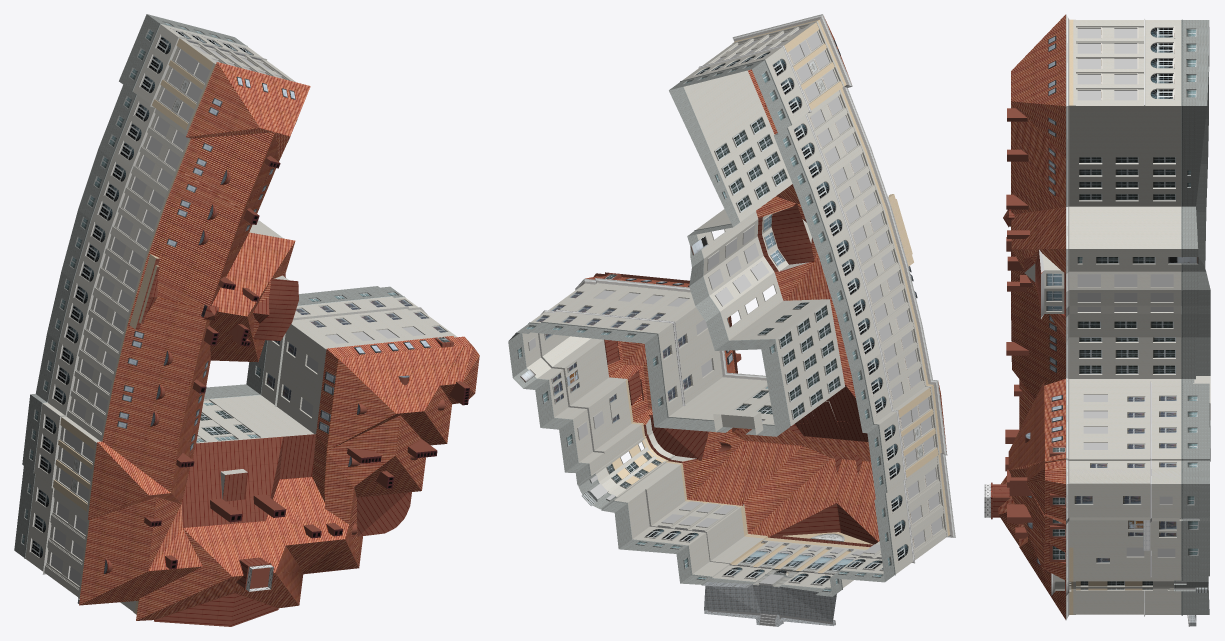
The model's file is Estonia_pst_10.obj.
3 renders of one model, left to right at view 1: azimuth 30°, elevation 25°; view 2: azimuth 150°, elevation 25°; view 3: azimuth 270°, elevation 25°, orthographic. The views are drawn at different scales.
Visible parts, largest first — view 1: Estonia_pst_10; view 2: Estonia_pst_10; view 3: Estonia_pst_10.
Part boxes in pixels (x1,y1,x2,y2): Estonia_pst_10: [14, 14, 479, 626]; Estonia_pst_10: [508, 14, 955, 626]; Estonia_pst_10: [984, 14, 1210, 626].
Bounding box in the file's own units: 53.61 × 76.37 × 26.78.
